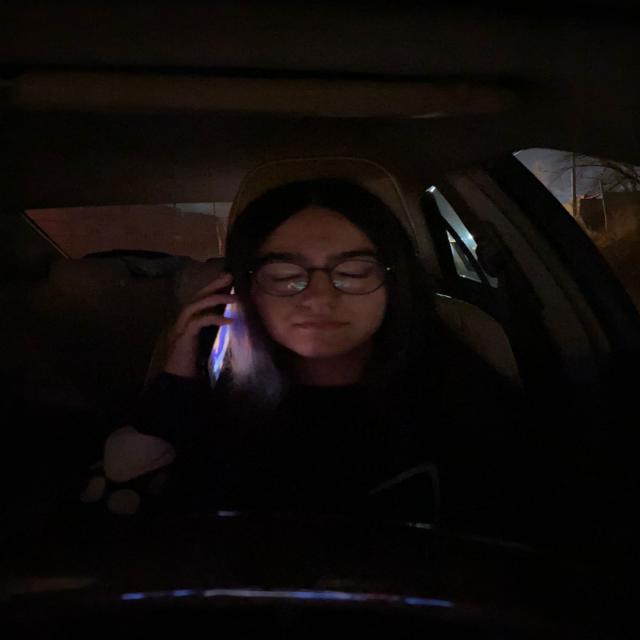mobile: (210, 274, 260, 400)
person: (232, 183, 408, 360)
